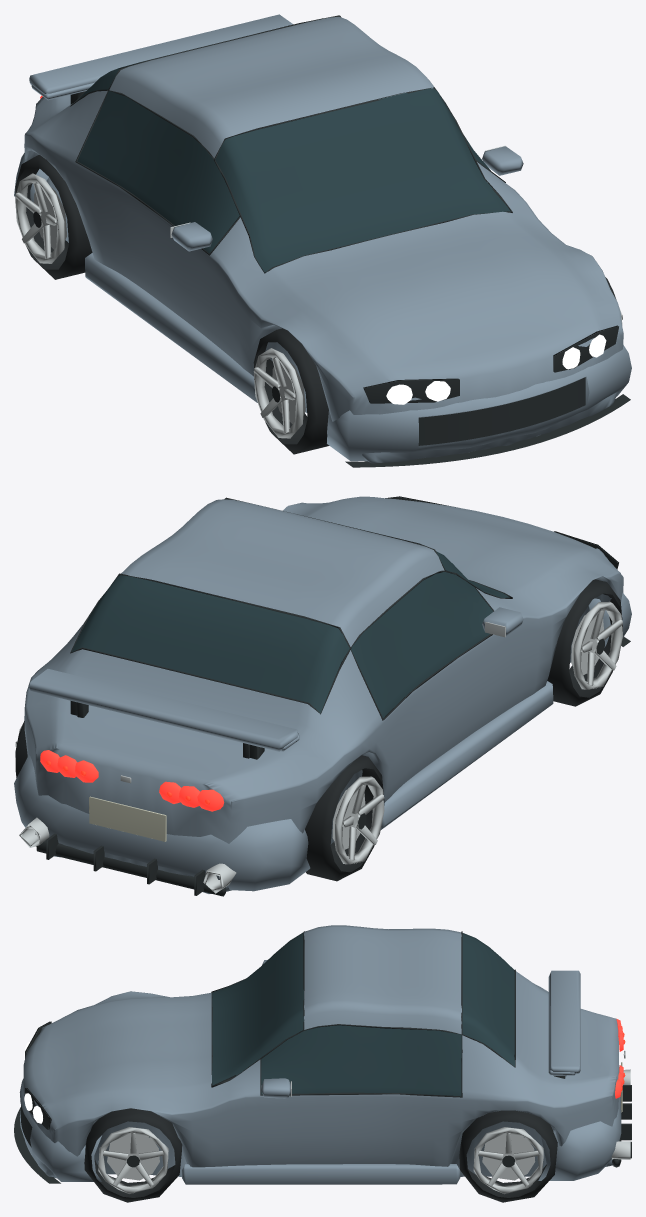
Rendered from orvane-relva.glb.
3 views of the same model, one above another, from view 1: azimuth 30°, elevation 25°; view 2: azimuth 150°, elevation 25°; view 3: azimuth 270°, elevation 25° (orthographic). The views are drawn at different scales.
Parts seen in each view (by area): view 1: cofano, cristallo_ant, scocca, tetto, cristallo_sx, porta_sx, paraurti_ant, minigonna_sx, griglia, spoiler, ruota_ant_sx_gomma, ruota_post_sx_gomma (+13 smaller); view 2: scocca, tetto, cristallo_post, portellone, cofano, paraurti_post, porta_sx, cristallo_sx, spoiler, minigonna_sx, ruota_post_sx_gomma, ruota_ant_sx_gomma (+13 smaller); view 3: scocca, tetto, cofano, porta_dx, cristallo_dx, cristallo_ant, portellone, minigonna_dx, cristallo_post, spoiler, paraurti_post, ruota_ant_dx_gomma (+13 smaller).
Boxes of the visible parts, <box> form: cofano: <box>265,211,600,373</box>; cristallo_ant: <box>215,88,510,272</box>; scocca: <box>24,90,623,463</box>; tetto: <box>109,17,437,158</box>; cristallo_sx: <box>77,91,239,253</box>; porta_sx: <box>75,163,224,351</box>; paraurti_ant: <box>327,345,631,461</box>; minigonna_sx: <box>85,253,257,402</box>; griglia: <box>418,377,585,445</box>; spoiler: <box>29,14,293,93</box>; ruota_ant_sx_gomma: <box>253,328,329,454</box>; ruota_post_sx_gomma: <box>15,155,92,279</box>; scocca: <box>24,498,623,893</box>; tetto: <box>121,499,444,646</box>; cristallo_post: <box>71,575,349,713</box>; portellone: <box>50,649,320,788</box>; cofano: <box>304,496,600,598</box>; paraurti_post: <box>14,755,310,891</box>; porta_sx: <box>374,630,516,802</box>; cristallo_sx: <box>351,572,493,718</box>; spoiler: <box>29,669,298,751</box>; minigonna_sx: <box>380,681,553,829</box>; ruota_post_sx_gomma: <box>305,755,384,881</box>; ruota_ant_sx_gomma: <box>547,579,622,706</box>; scocca: <box>23,983,618,1178</box>; tetto: <box>304,925,461,1034</box>; cofano: <box>45,993,211,1107</box>; porta_dx: <box>245,1094,461,1176</box>; cristallo_dx: <box>261,1025,461,1096</box>; cristallo_ant: <box>212,932,303,1085</box>; portellone: <box>515,971,618,1089</box>; minigonna_dx: <box>182,1163,460,1184</box>; cristallo_post: <box>462,933,514,1066</box>; spoiler: <box>549,970,580,1074</box>; paraurti_post: <box>538,1065,621,1180</box>; ruota_ant_dx_gomma: <box>84,1108,182,1202</box>.
Size of the model in its own units: 2.09 by 1.36 by 4.22.
